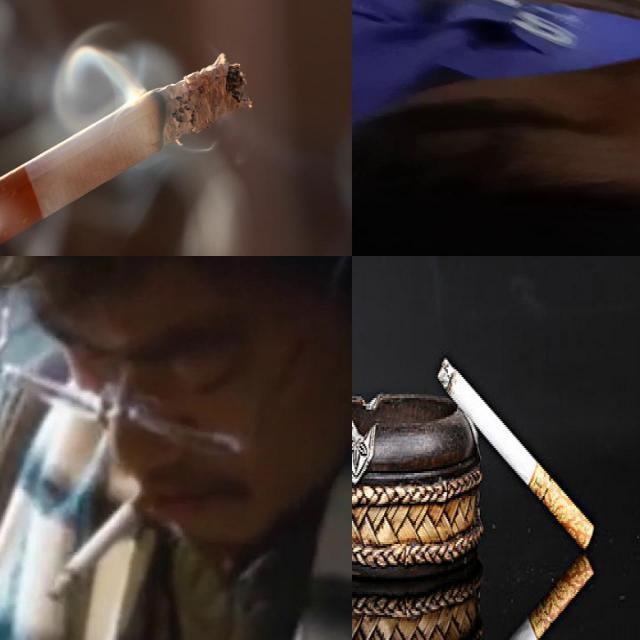smoke: (0, 54, 253, 247), (436, 354, 594, 552), (42, 492, 148, 602)
